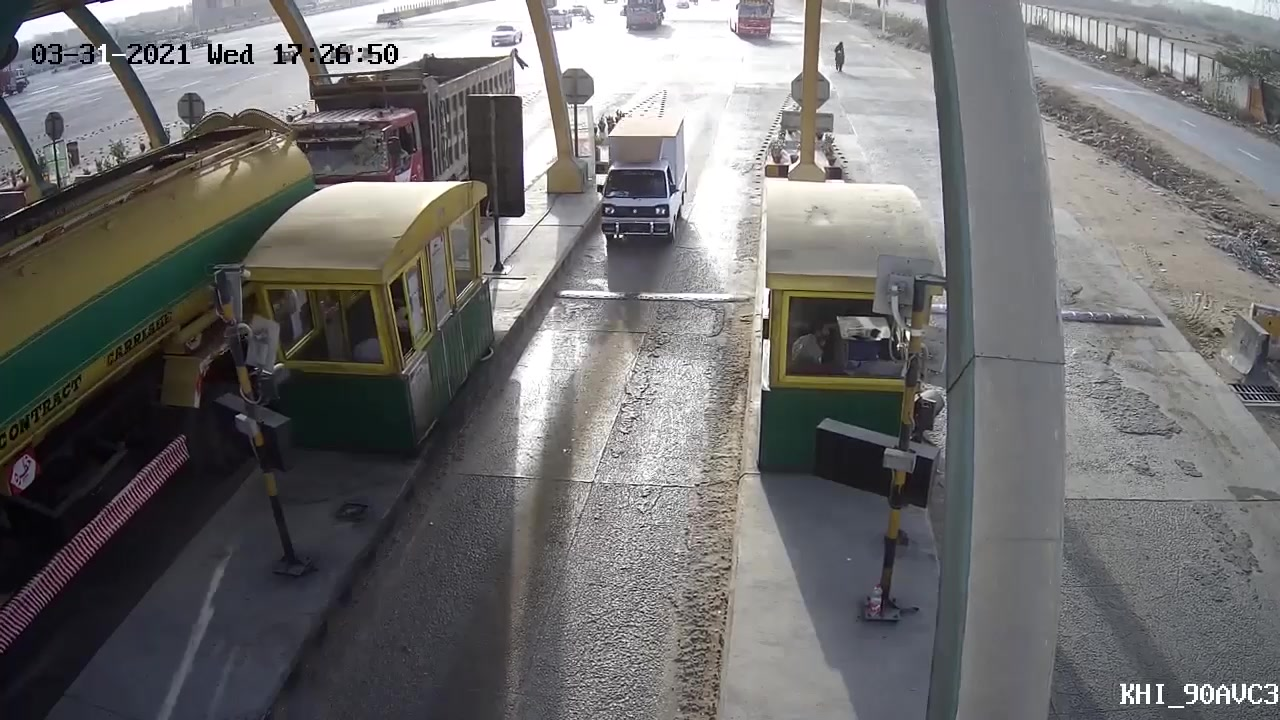F1: (592, 111, 699, 261)
